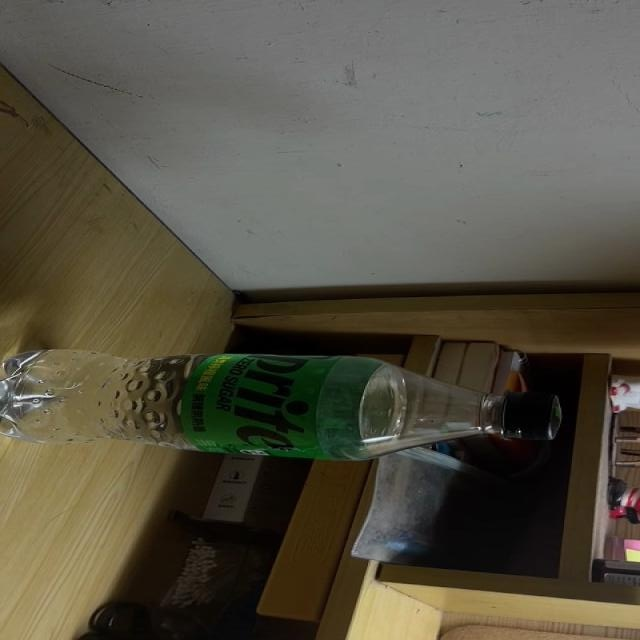Sprite: (0, 350, 563, 461)
